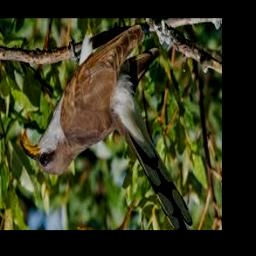Cuckoo: (19, 26, 192, 230)
